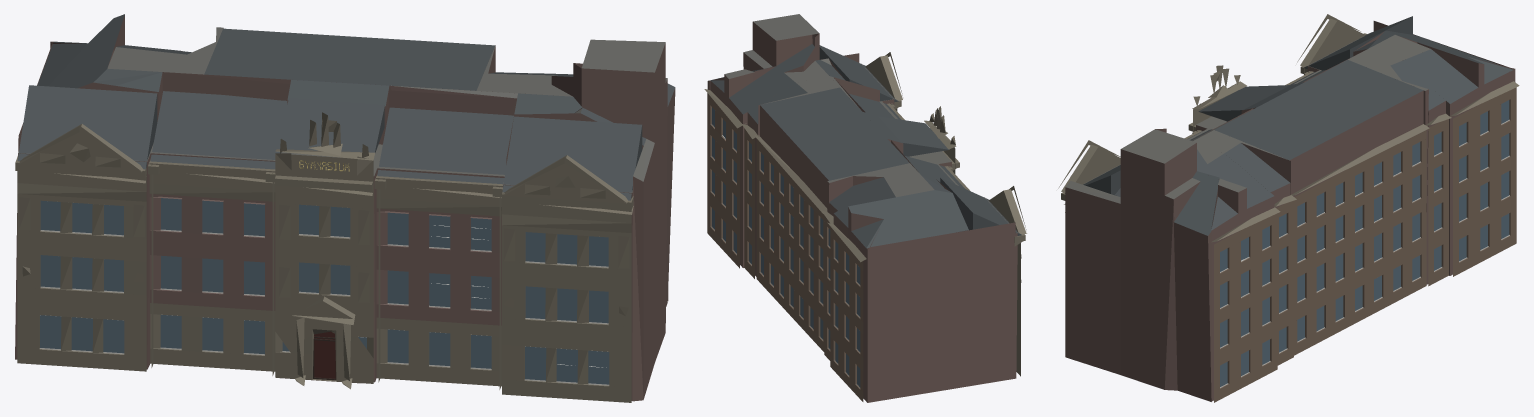
The model's file is barlaeus-gymnasium.lod1.glb.
The picture shows the model from 3 angles, left to right: view 1: azimuth 30°, elevation 25°; view 2: azimuth 150°, elevation 25°; view 3: azimuth 270°, elevation 25°; orthographic projection. The views are drawn at different scales.
Visible parts, largest first — view 1: barlaeus-gymnasium; view 2: barlaeus-gymnasium; view 3: barlaeus-gymnasium.
Part boxes in pixels (x1,y1,x2,y2): barlaeus-gymnasium: (15,14,675,402); barlaeus-gymnasium: (704,14,1026,402); barlaeus-gymnasium: (1058,14,1519,402).
Bounding box in the file's own units: 50.87 × 25.2 × 46.68.
